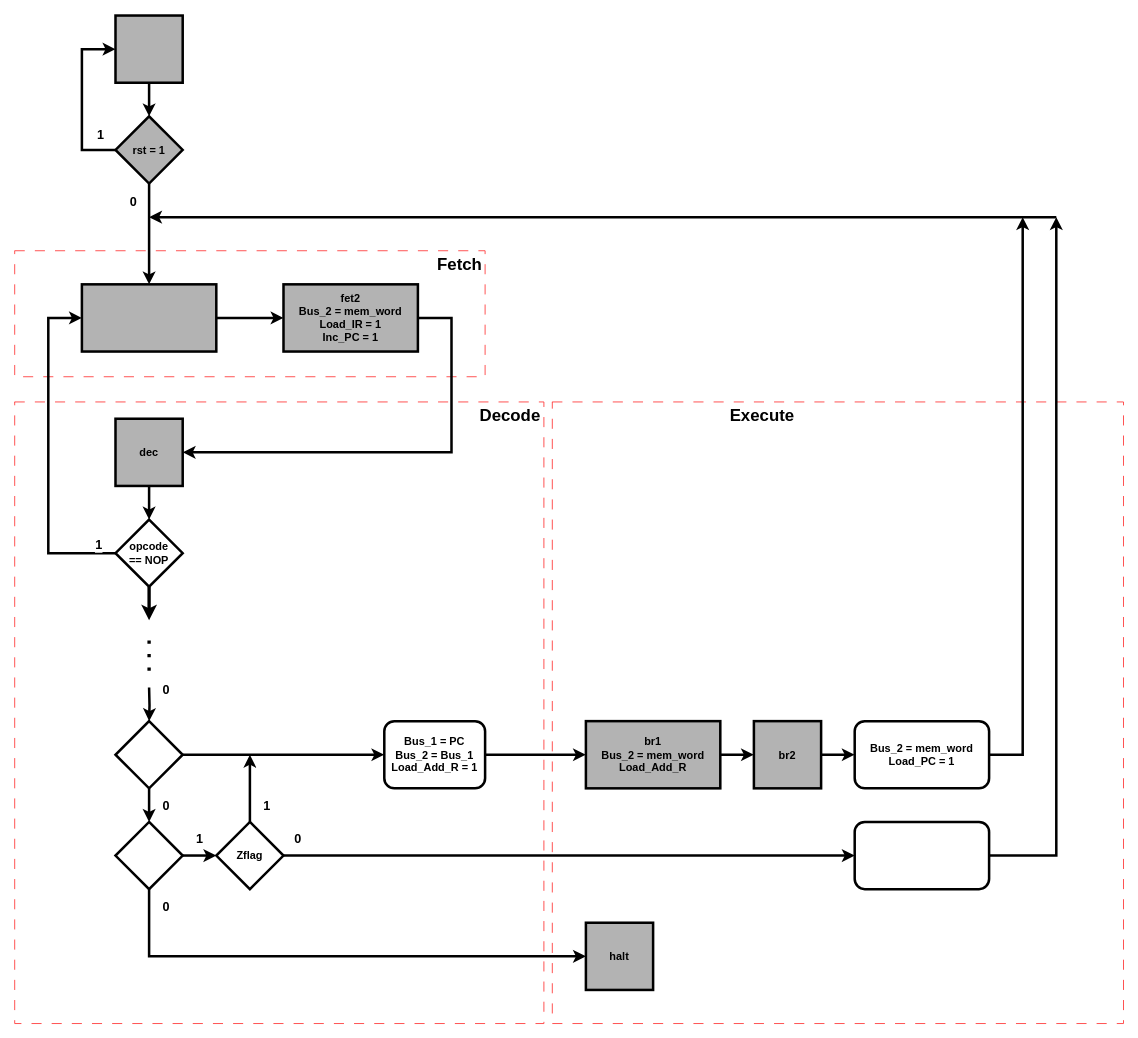
Some shapes in this 1138 by 1038 pixel diagram are drawn without their labels. The box of each missing label's shape, as (x1, y1, x2, y2) in pixels:
fet1 Bus_1 = PC Bus_2 = Bus_1 Load_Add_R = 1: (80, 283, 217, 352)
idle: (114, 14, 184, 84)
Inc_PC = 1: (853, 820, 990, 890)
opcode == BR: (114, 719, 184, 789)
opcode == BRZ: (114, 820, 184, 890)
